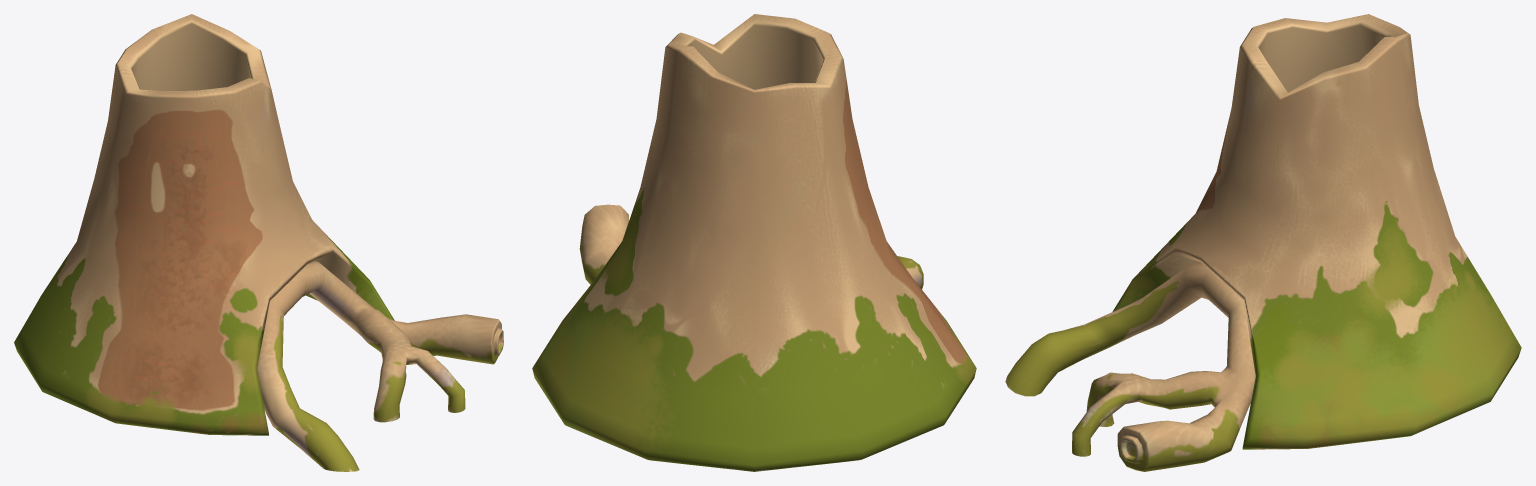
File: souche_impl.FBX
3 renders of one model, left to right at view 1: azimuth 30°, elevation 25°; view 2: azimuth 150°, elevation 25°; view 3: azimuth 270°, elevation 25°, orthographic. The views are drawn at different scales.
Parts seen in each view (by area): view 1: Cylinder003; view 2: Cylinder003; view 3: Cylinder003.
Boxes of the visible parts, box(x1,y1,x2,y2) form: Cylinder003: box(14, 14, 503, 471); Cylinder003: box(532, 14, 976, 471); Cylinder003: box(1005, 14, 1521, 471).
Size of the model in its own units: 177 by 144 by 187.
Materials: 1 (1 with a texture image).
